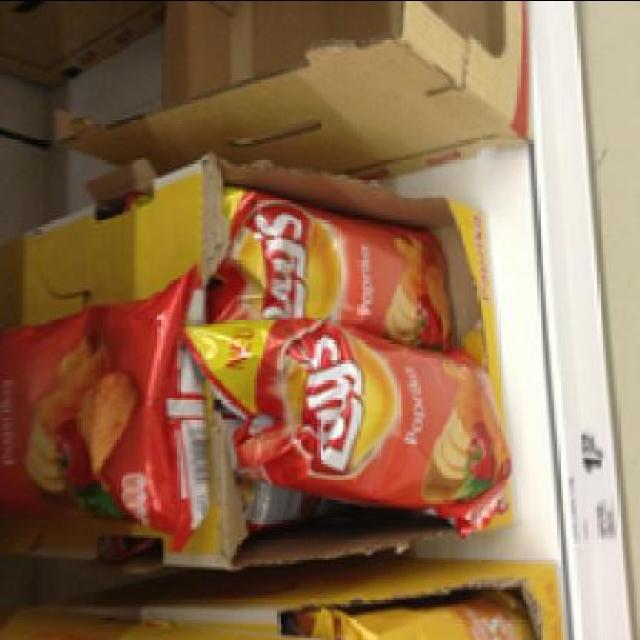Chips: (197, 326, 509, 529), (2, 276, 204, 532), (214, 197, 460, 343)
